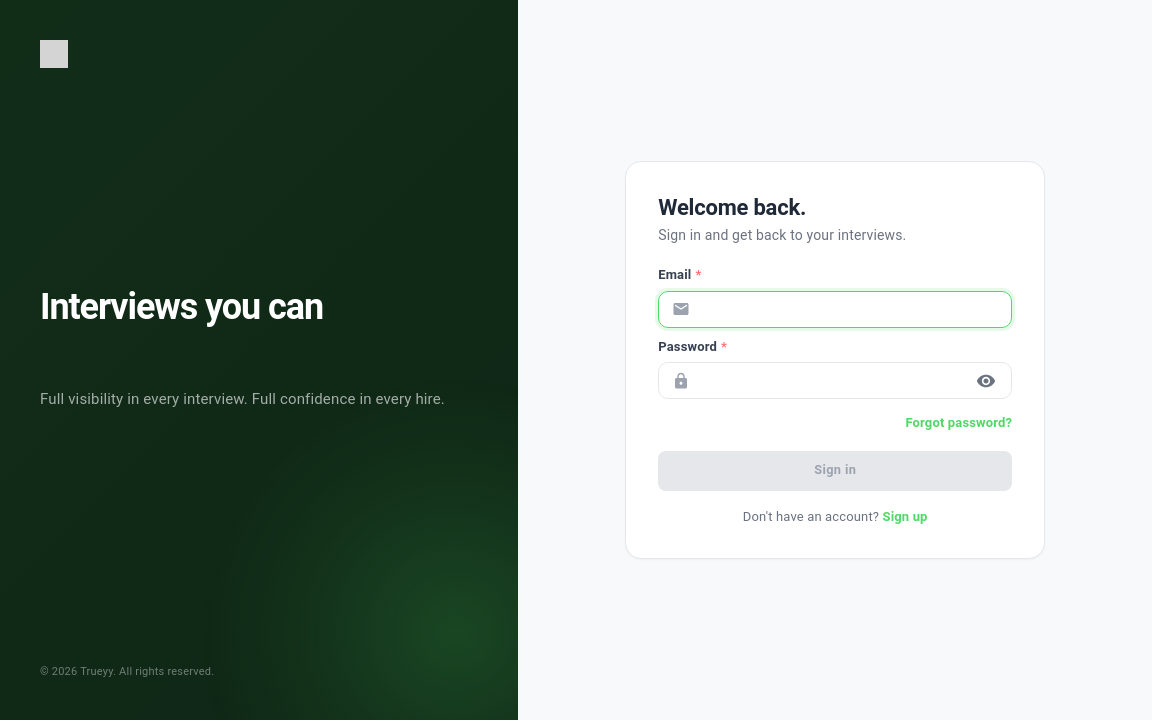
Test: Login › submit stays disabled until email + password are filled
Expected: the button "Sign in" is disabled, [658, 451, 1012, 491]
Type "jane@acme.com" into the field labelled "Email *". click: (855, 309)
box: [698, 291, 1012, 328]
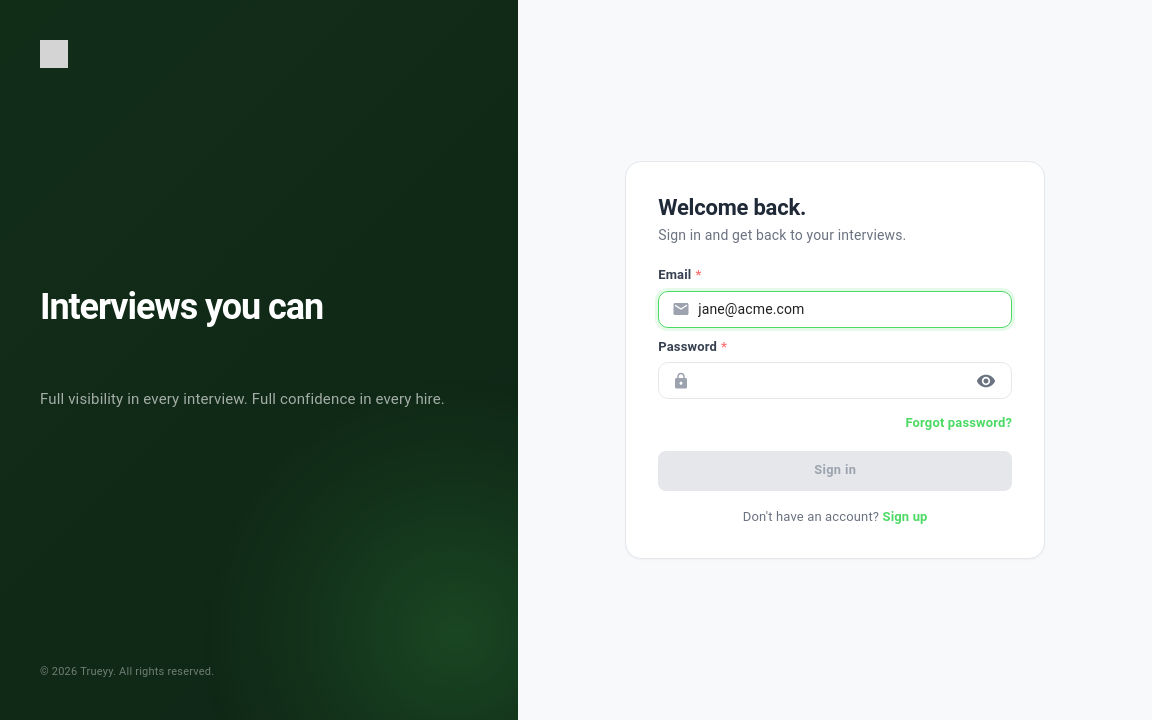
Type "secret" into the password field labelled "Password *". click: (831, 381)
box: [698, 362, 963, 399]
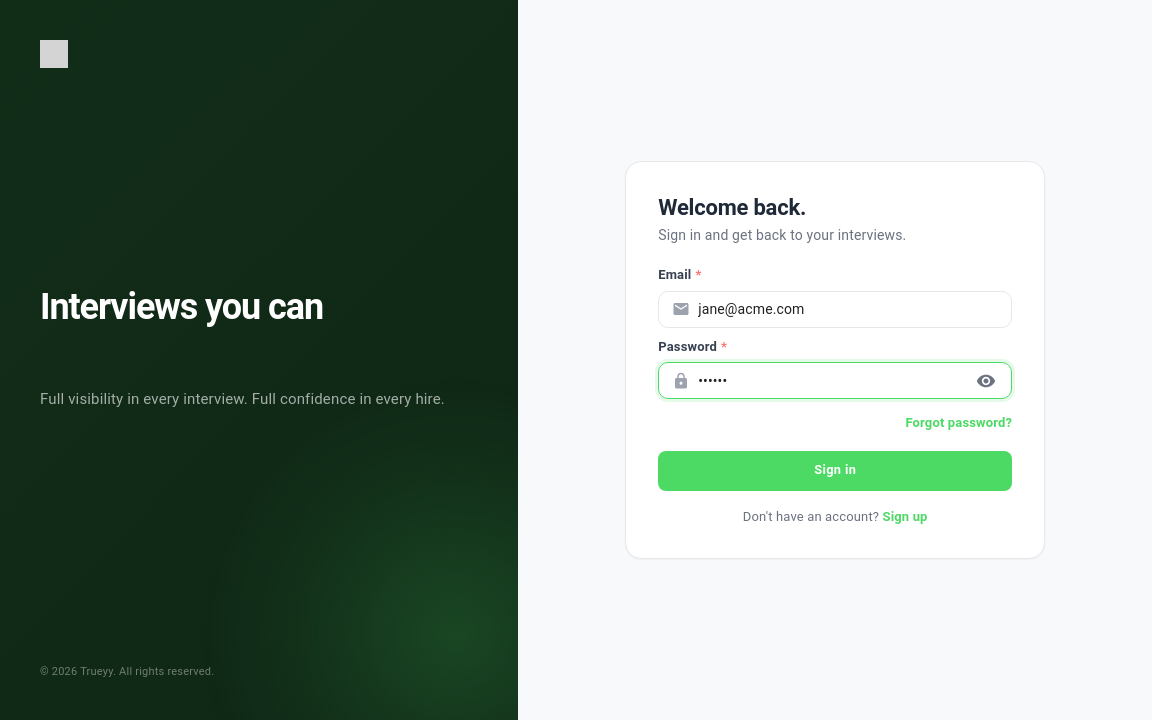
Expected: the button "Sign in" is enabled, [658, 451, 1012, 491]
